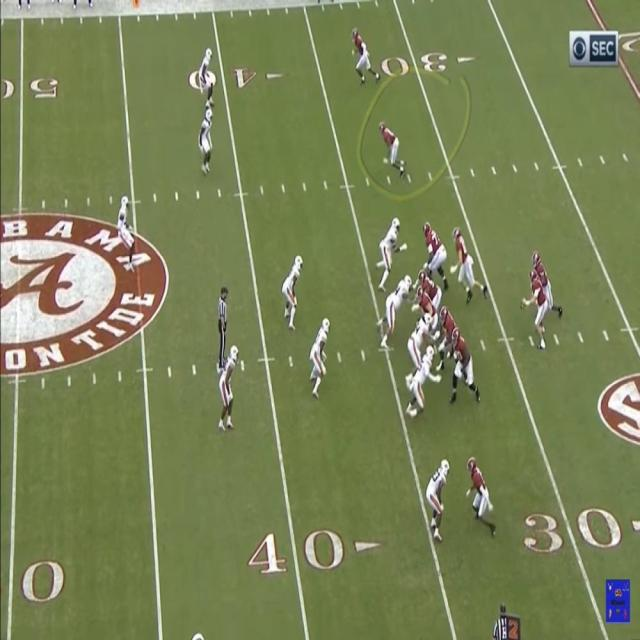center: (421, 296, 442, 331)
db: (424, 461, 449, 538), (223, 345, 239, 427), (117, 198, 131, 267), (202, 100, 213, 169), (200, 43, 214, 93)
lb: (311, 320, 328, 396), (284, 257, 302, 327)
qb: (529, 264, 545, 347)
skill: (468, 460, 496, 524), (453, 230, 475, 290), (531, 248, 550, 305), (353, 34, 371, 84), (382, 122, 399, 167)
